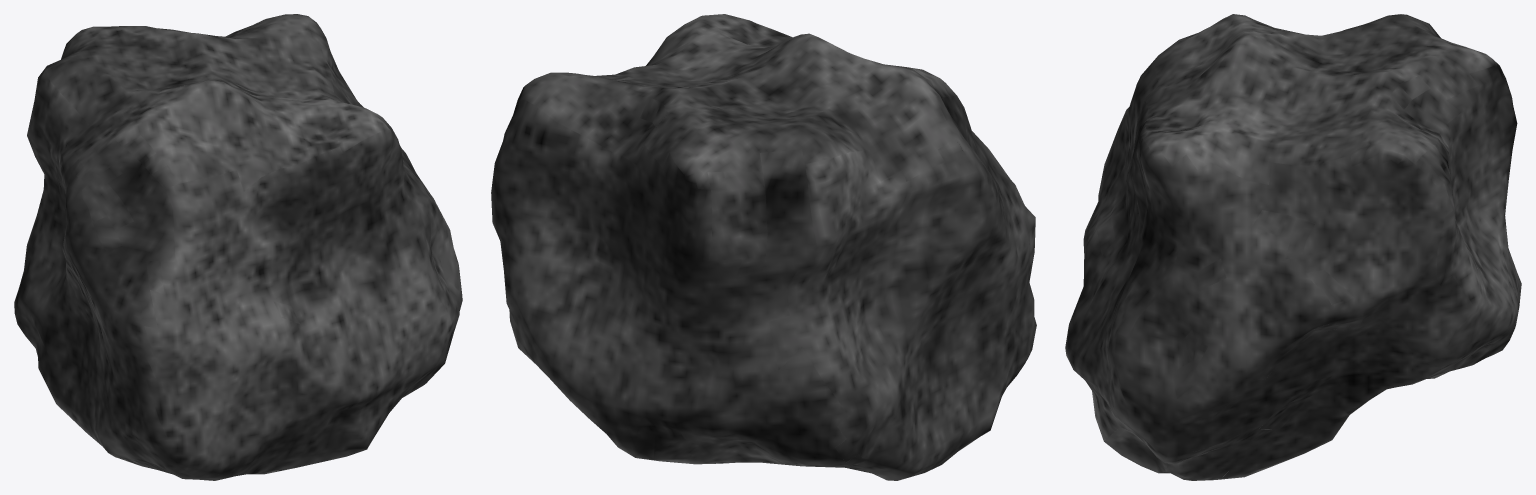
The model's file is asteroid_3.glb.
3 views of the same model, side by side, from view 1: azimuth 30°, elevation 25°; view 2: azimuth 150°, elevation 25°; view 3: azimuth 270°, elevation 25° (orthographic). The views are drawn at different scales.
Parts seen in each view (by area): view 1: asteroid_3; view 2: asteroid_3; view 3: asteroid_3.
Part boxes in pixels (x1,y1,x2,y2): asteroid_3: [14, 14, 462, 480]; asteroid_3: [491, 14, 1036, 480]; asteroid_3: [1065, 14, 1521, 480].
Size of the model in its own units: 1.56 by 1.48 by 1.54.
1 material, 1 textured.
